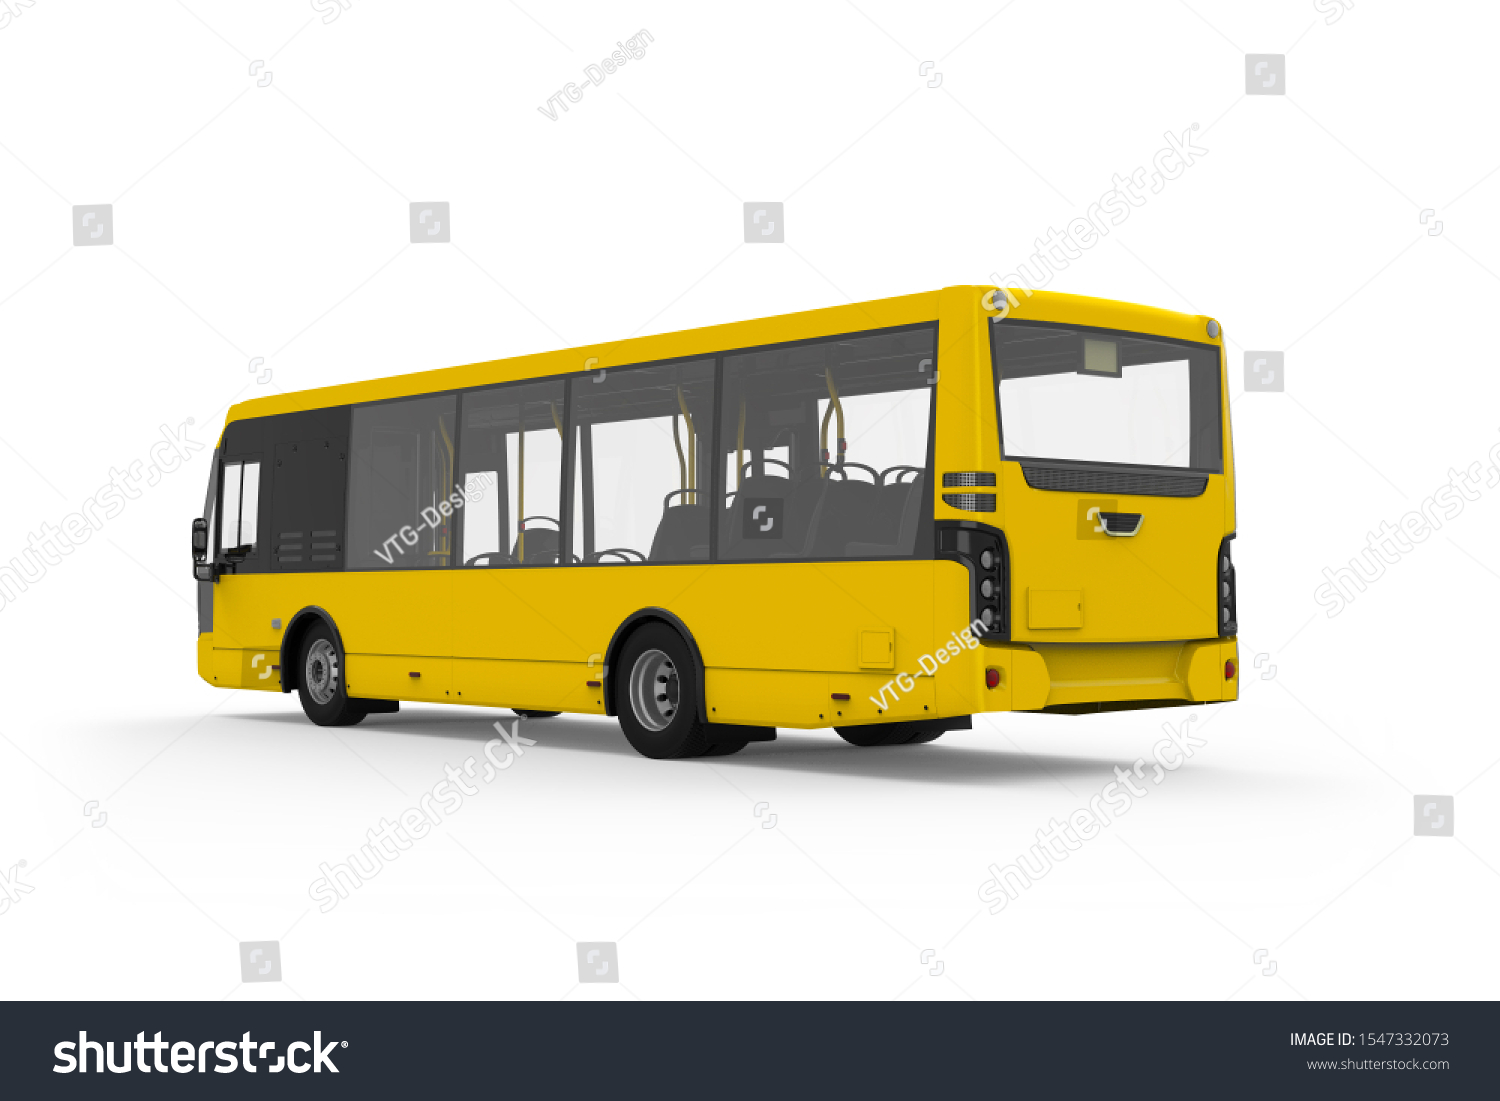bus: (200, 285, 1240, 756)
